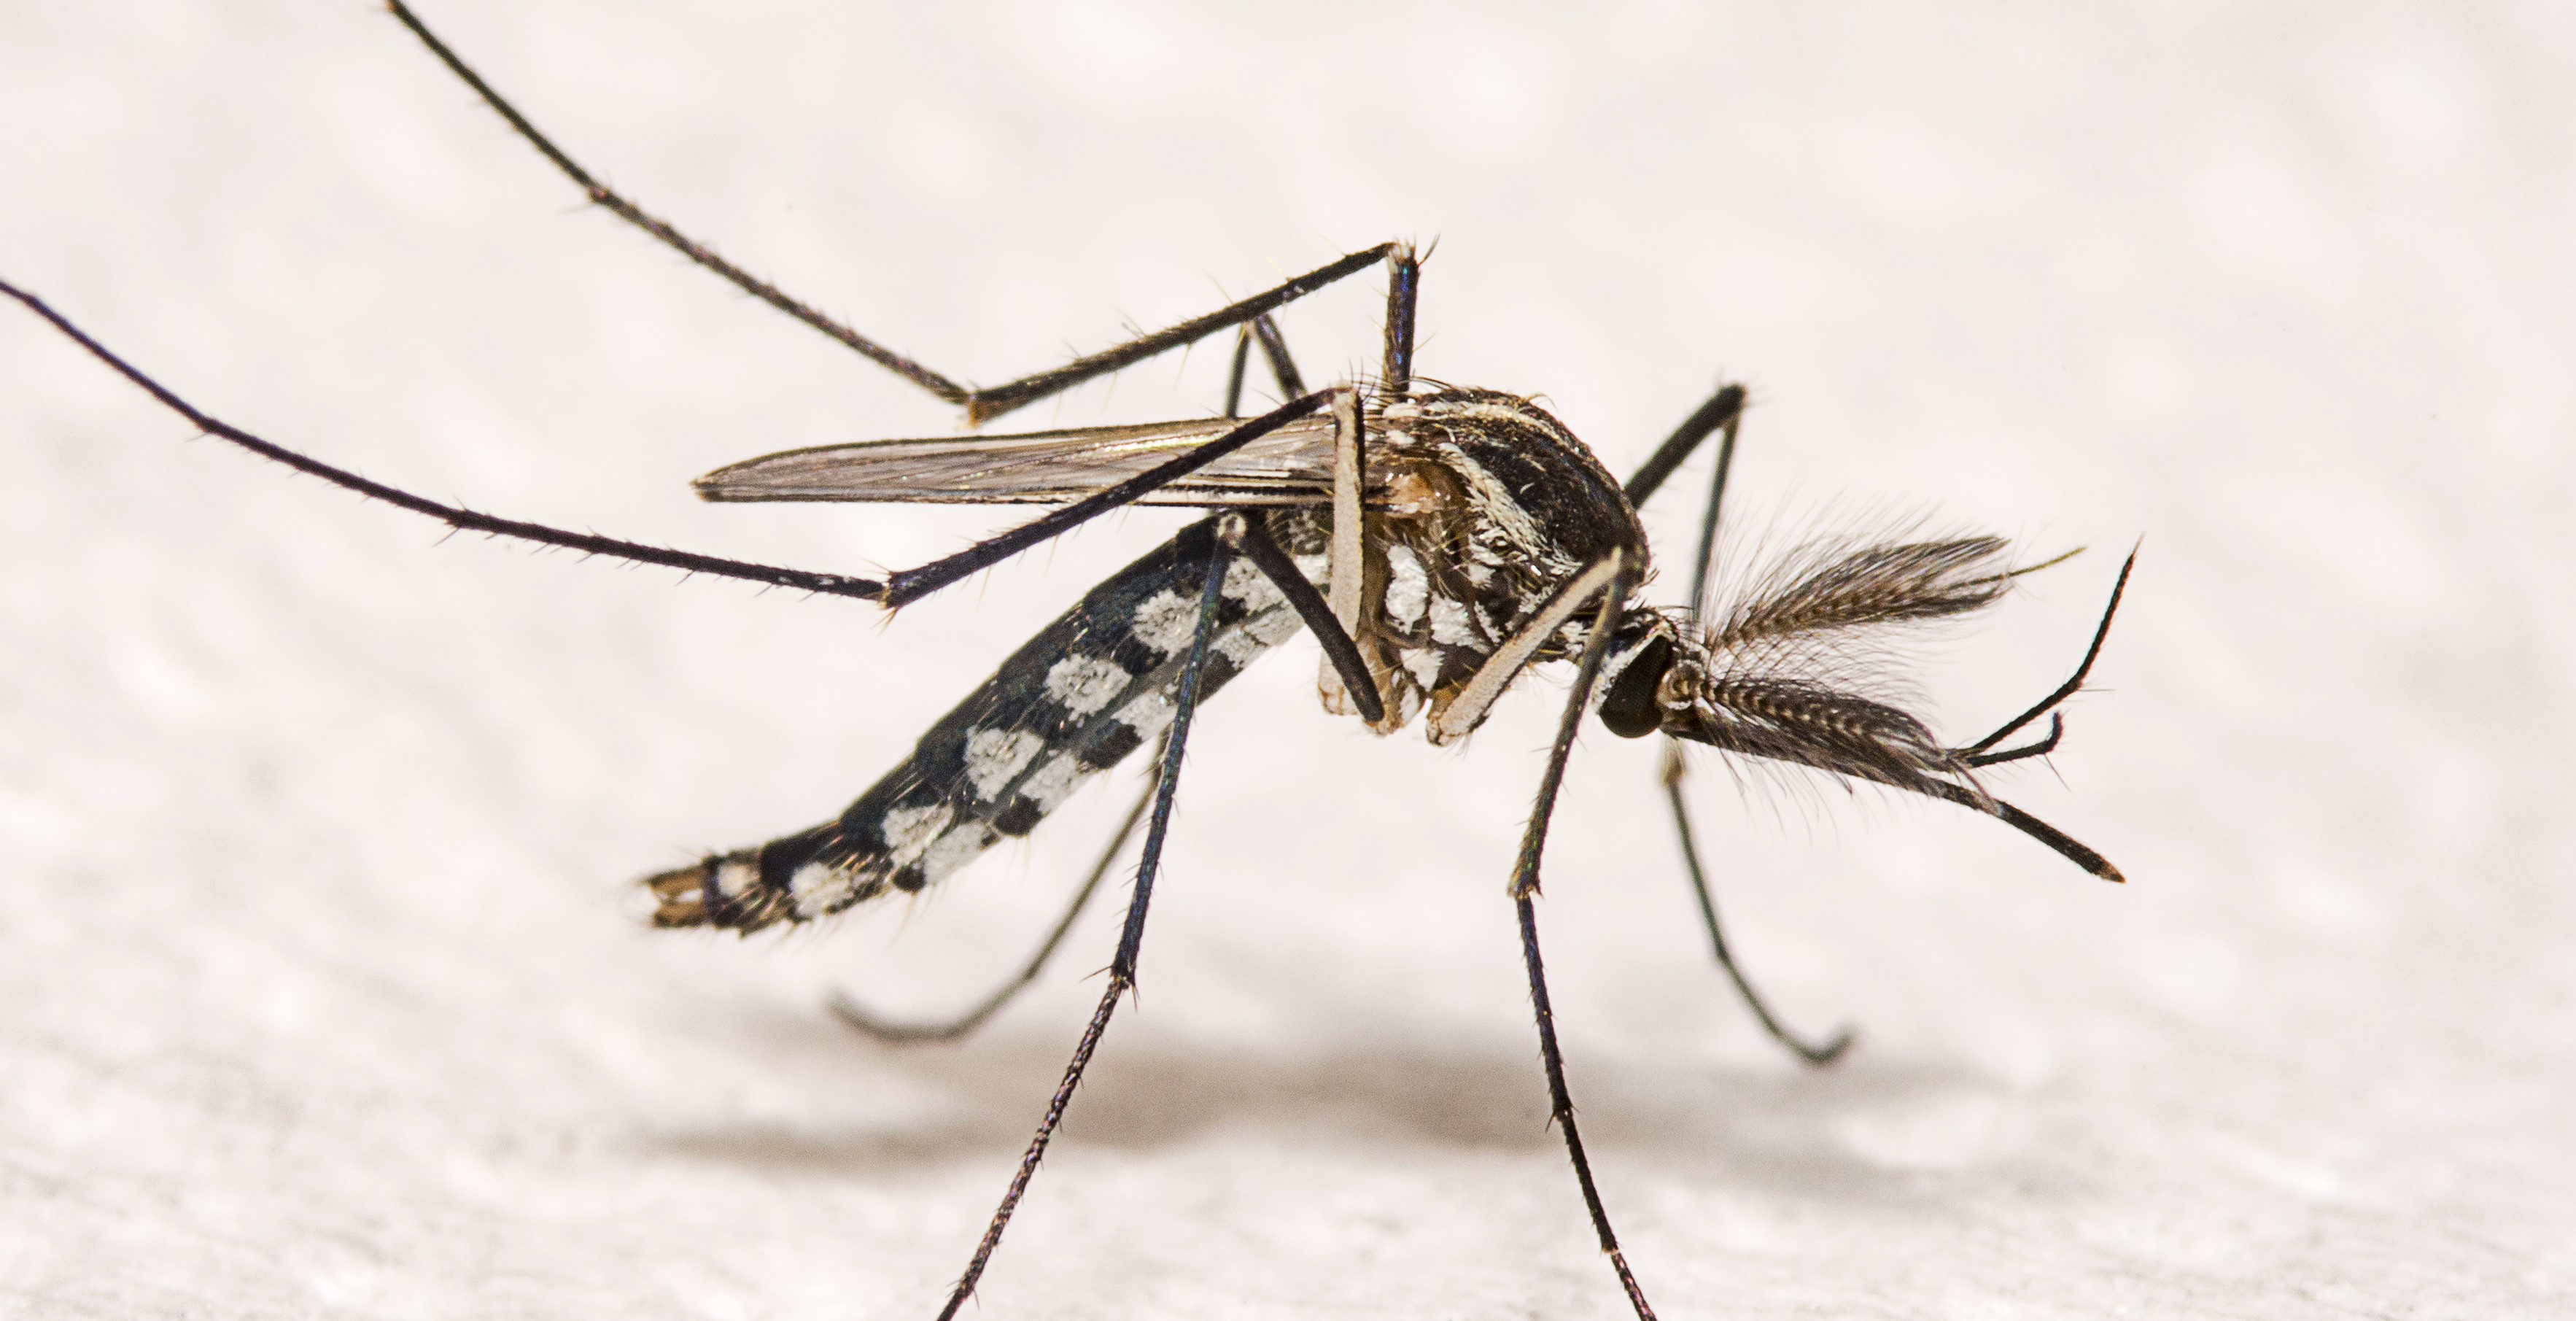dengue_mosquito: (360, 233, 2147, 1294)
